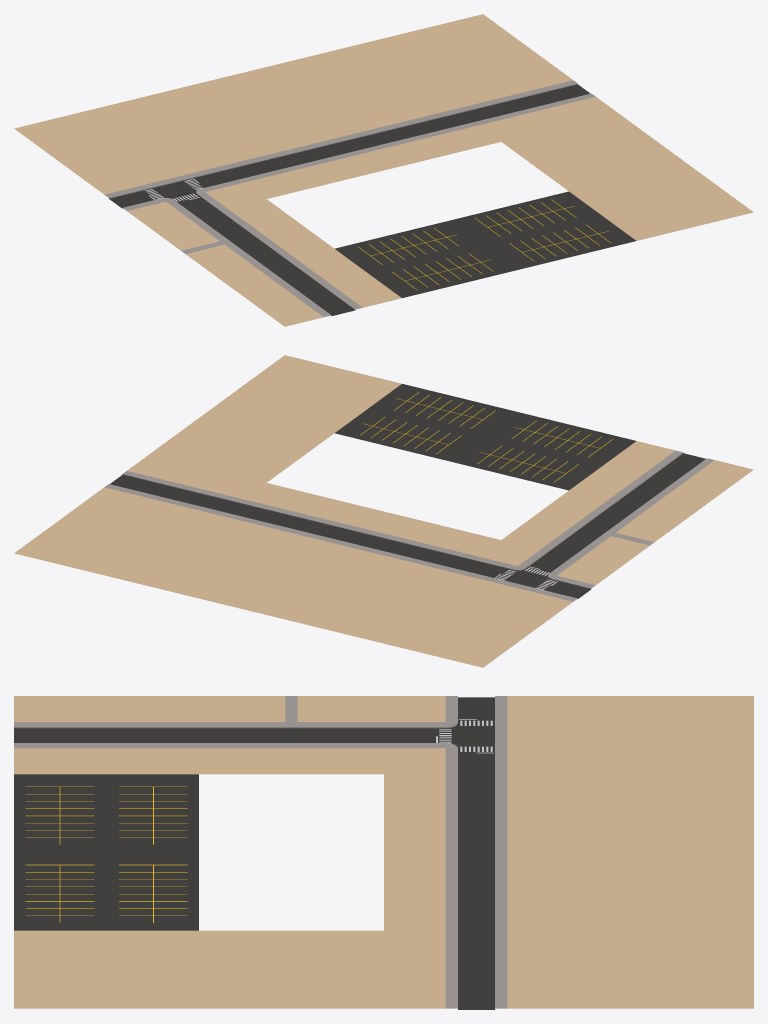
File: road-zone-events.glb
3 views of the same model, one above another, from view 1: azimuth 30°, elevation 25°; view 2: azimuth 150°, elevation 25°; view 3: azimuth 270°, elevation 25° (orthographic). The views are drawn at different scales.
Visible parts, largest first — view 1: tile-road-intersection-t-nb, tile-plain-nb.027, tile-plain-nb.077, tile-road-straight-nb.001, tile-plain-nb.028, tile-plain-nb.030, tile-road-straight-nb.015, tile-road-straight-nb.016, tile-road-straight-nb.018, tile-plain-nb.097, tile-road-straight-nb.002, tile-plain-nb.016 (+2 smaller); view 2: tile-plain-nb.028, tile-road-straight-nb.016, tile-plain-nb.016, tile-road-straight-nb.001, tile-plain-nb.025, tile-plain-nb.027, tile-road-straight-nb.018, tile-plain-nb.067, tile-plain-nb.077, tile-plain-nb.097, tile-plain-nb.030, tile-road-straight-nb.002 (+2 smaller); view 3: tile-plain-nb.025, tile-plain-nb.027, tile-plain-nb.028, tile-plain-nb.030, tile-road-intersection-t-nb, tile-road-straight-nb.001, tile-road-straight-nb.002, tile-road-straight-nb.015, tile-road-straight-nb.016, tile-road-straight-nb.018, tile-plain-nb.067, tile-plain-nb.097 (+2 smaller).
Boxes of the visible parts, x1,y1,x2,y2 form: tile-road-intersection-t-nb: (82,149,266,227); tile-plain-nb.027: (132,71,315,149); tile-plain-nb.077: (452,191,635,269); tile-road-straight-nb.001: (199,121,383,198); tile-plain-nb.028: (249,43,432,120); tile-plain-nb.030: (366,14,550,92); tile-road-straight-nb.015: (150,199,333,277); tile-road-straight-nb.016: (317,92,500,170); tile-road-straight-nb.018: (434,63,617,141); tile-plain-nb.097: (501,113,685,191); tile-road-straight-nb.002: (217,248,401,326); tile-plain-nb.016: (335,220,518,297); tile-plain-nb.028: (132,532,315,610); tile-road-straight-nb.016: (199,483,383,560); tile-plain-nb.016: (452,412,635,490); tile-road-straight-nb.001: (317,511,500,589); tile-plain-nb.025: (366,589,550,667); tile-plain-nb.027: (249,561,432,638); tile-road-straight-nb.018: (82,454,266,532); tile-plain-nb.067: (217,355,401,433); tile-plain-nb.077: (335,384,518,461); tile-plain-nb.097: (150,404,333,482); tile-plain-nb.030: (14,504,198,581); tile-road-straight-nb.002: (569,441,753,518); tile-plain-nb.025: (569,696,753,774); tile-plain-nb.027: (569,774,753,852); tile-plain-nb.028: (569,852,753,930); tile-plain-nb.030: (569,930,753,1008); tile-road-intersection-t-nb: (384,696,568,775); tile-road-straight-nb.001: (384,774,568,853); tile-road-straight-nb.002: (14,696,198,774); tile-road-straight-nb.015: (199,696,383,774); tile-road-straight-nb.016: (384,852,568,931); tile-road-straight-nb.018: (384,930,568,1009); tile-plain-nb.067: (14,930,198,1008); tile-plain-nb.097: (199,930,383,1008).
Bounding box in the file's own units: 120 × 0.2596 × 120.
8 materials, 1 textured.
